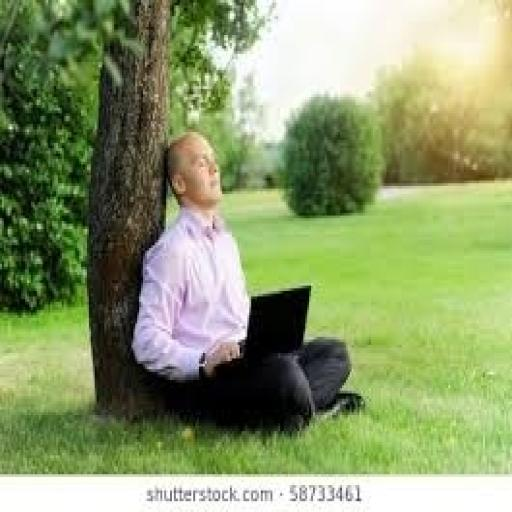sitting: (130, 127, 356, 434)
